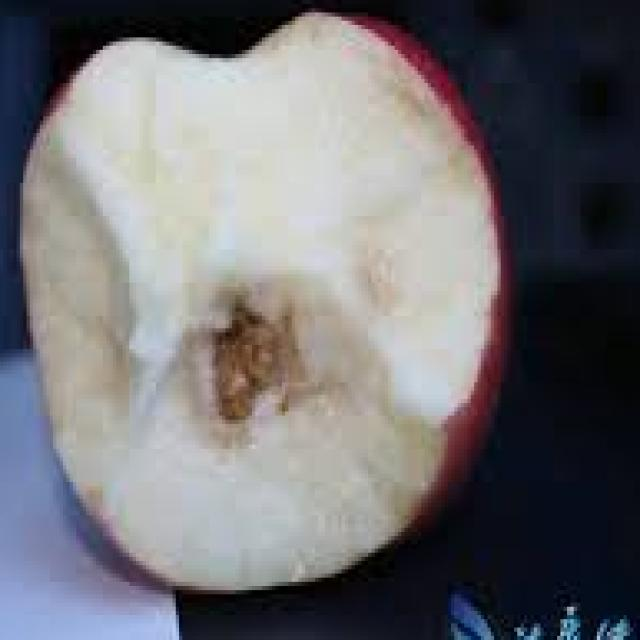inorganic: (4, 12, 534, 585)
